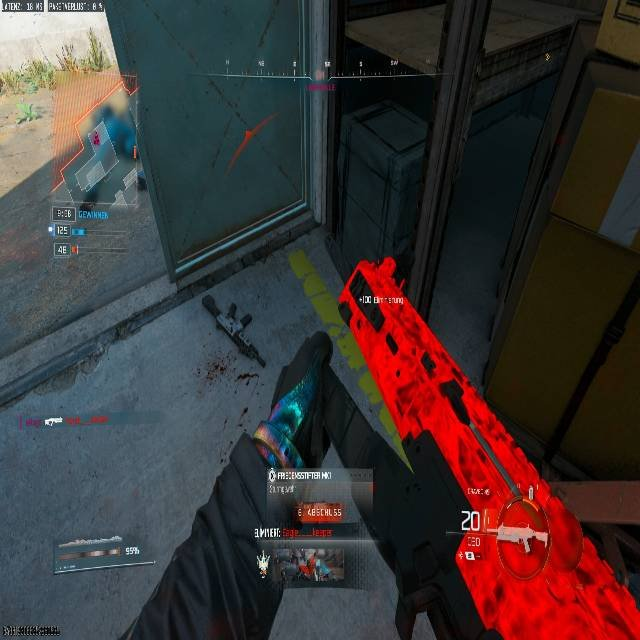player: (75, 77, 143, 217)
